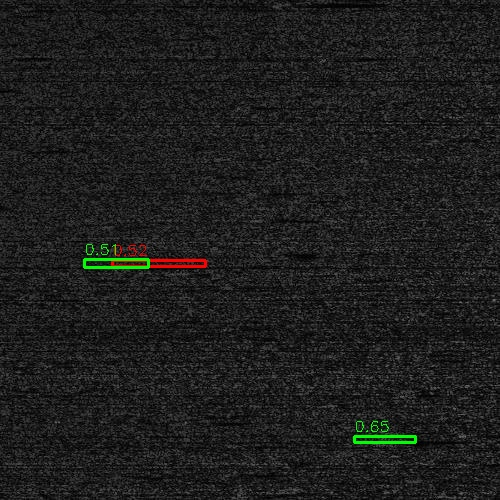rock: (279, 0, 332, 6), (355, 435, 396, 442)
shadow: (376, 435, 451, 442), (306, 0, 371, 6)
